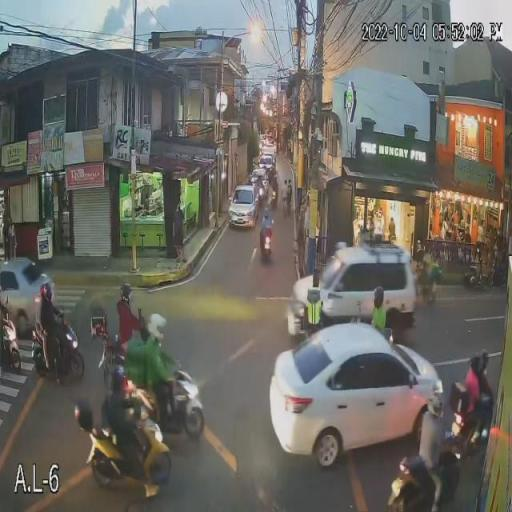helmet: (108, 368, 128, 394), (149, 314, 167, 341), (428, 394, 442, 418), (39, 283, 53, 302), (469, 353, 481, 375), (120, 284, 132, 304), (373, 288, 384, 309), (480, 350, 488, 372)
motorcycle: (74, 396, 170, 489), (148, 360, 208, 440), (386, 454, 463, 506), (33, 328, 87, 384), (452, 382, 494, 452), (90, 309, 133, 367), (0, 312, 23, 376), (260, 231, 271, 258)
rider: (107, 394, 159, 497), (147, 341, 178, 431), (423, 420, 447, 512), (37, 304, 63, 387), (117, 303, 138, 349), (480, 375, 493, 440), (466, 374, 478, 440), (372, 310, 385, 334), (262, 219, 271, 238)
